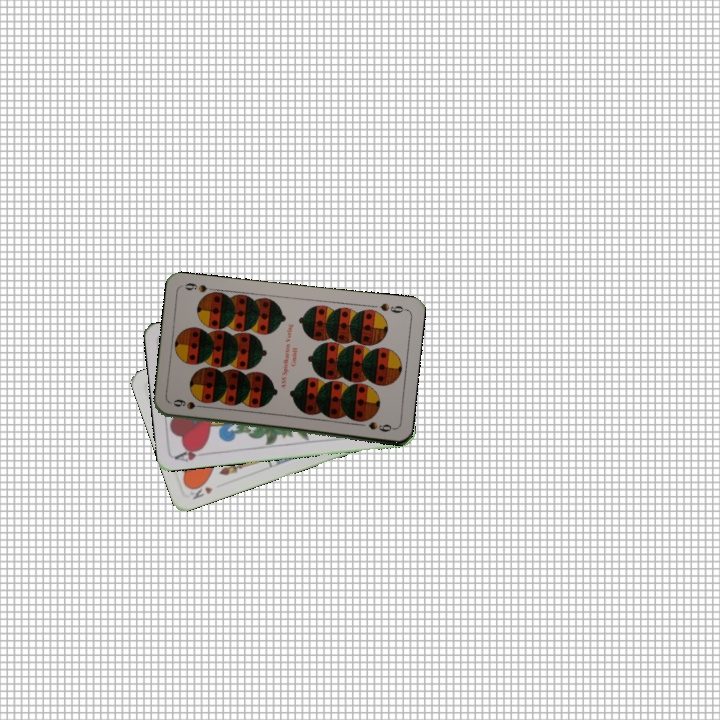HA: (171, 443, 208, 464)
HK: (184, 479, 215, 502)
S9: (169, 397, 209, 412), (376, 299, 409, 316)
